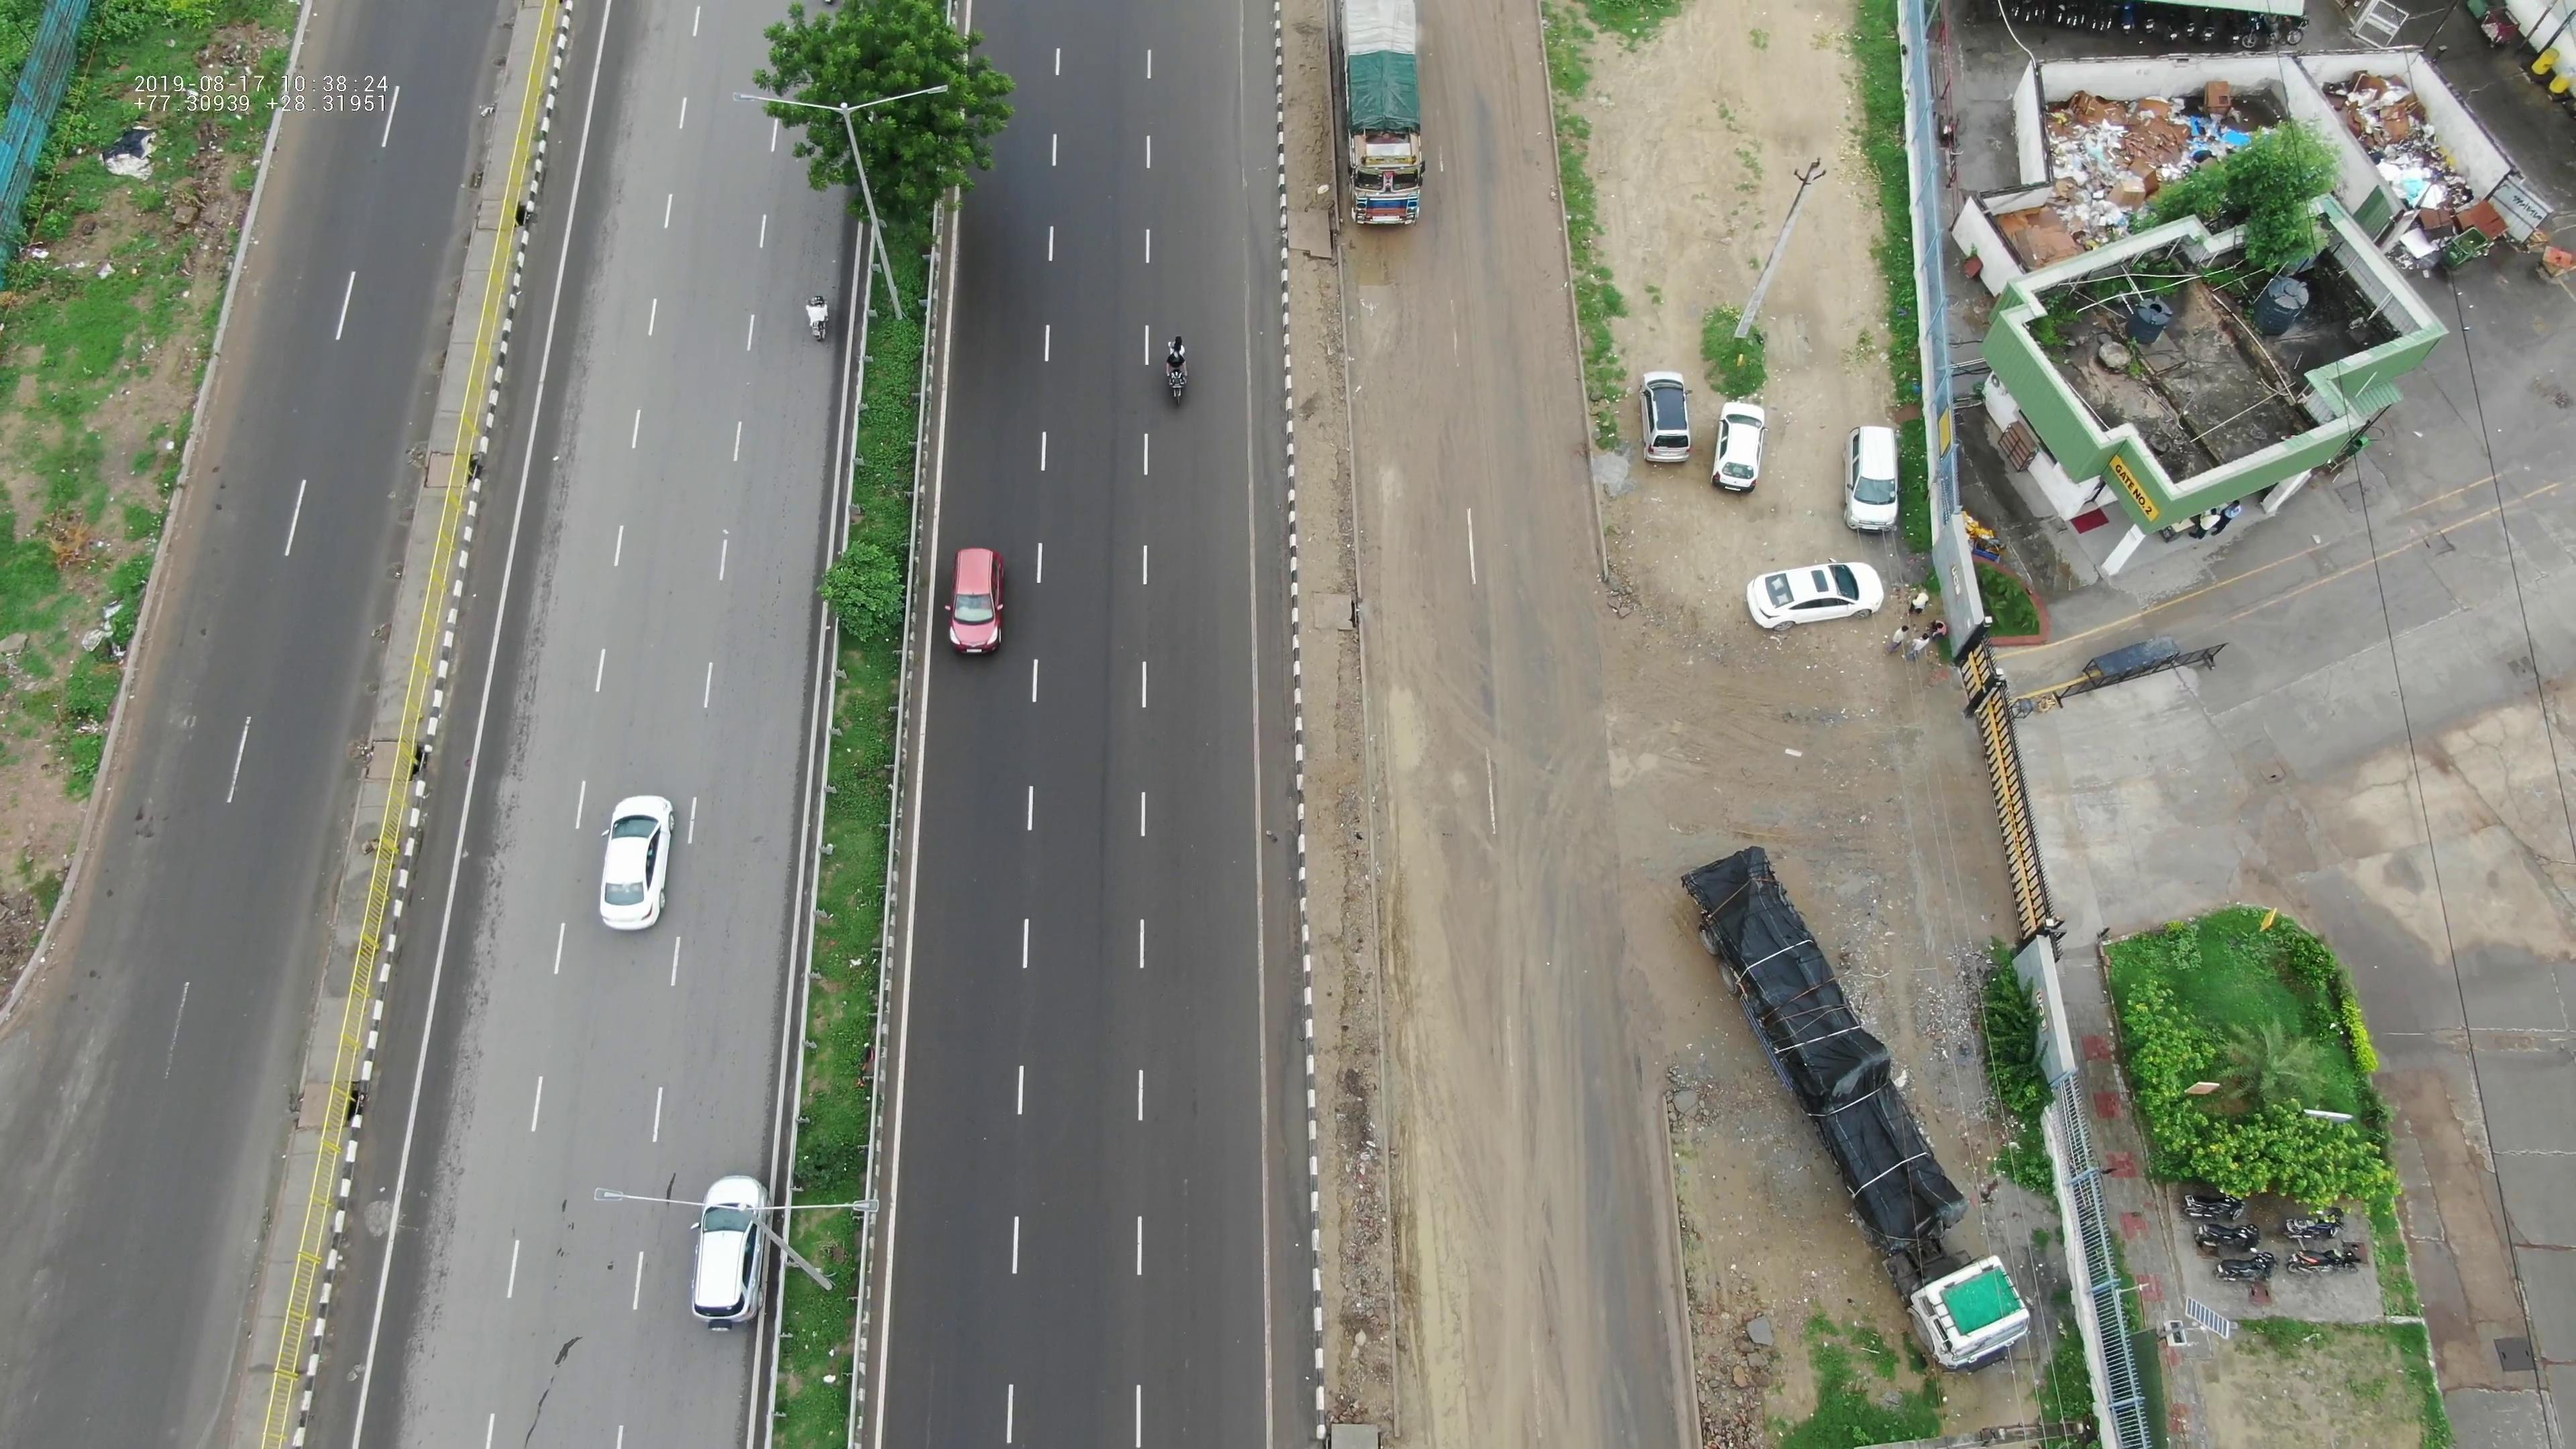Muddy_road: (1362, 223, 1506, 642), (1424, 1051, 1553, 1435), (1405, 663, 1529, 1035)
